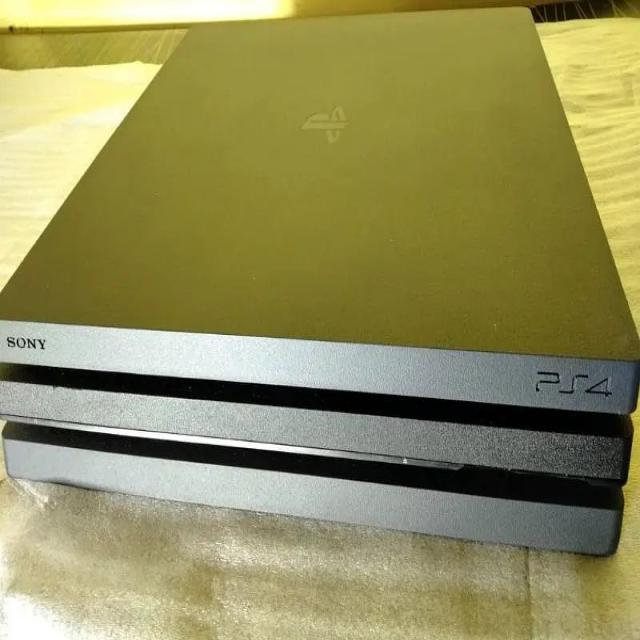electronic: (1, 4, 638, 557)
